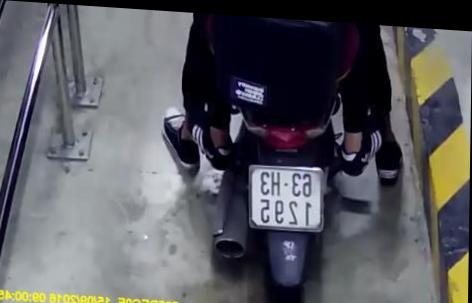License_Plate: (243, 157, 328, 237)
